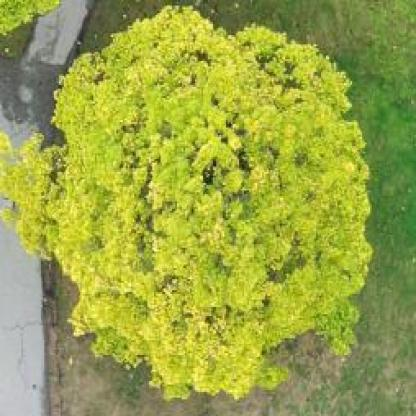Deciduous Tree: (2, 14, 390, 391)
